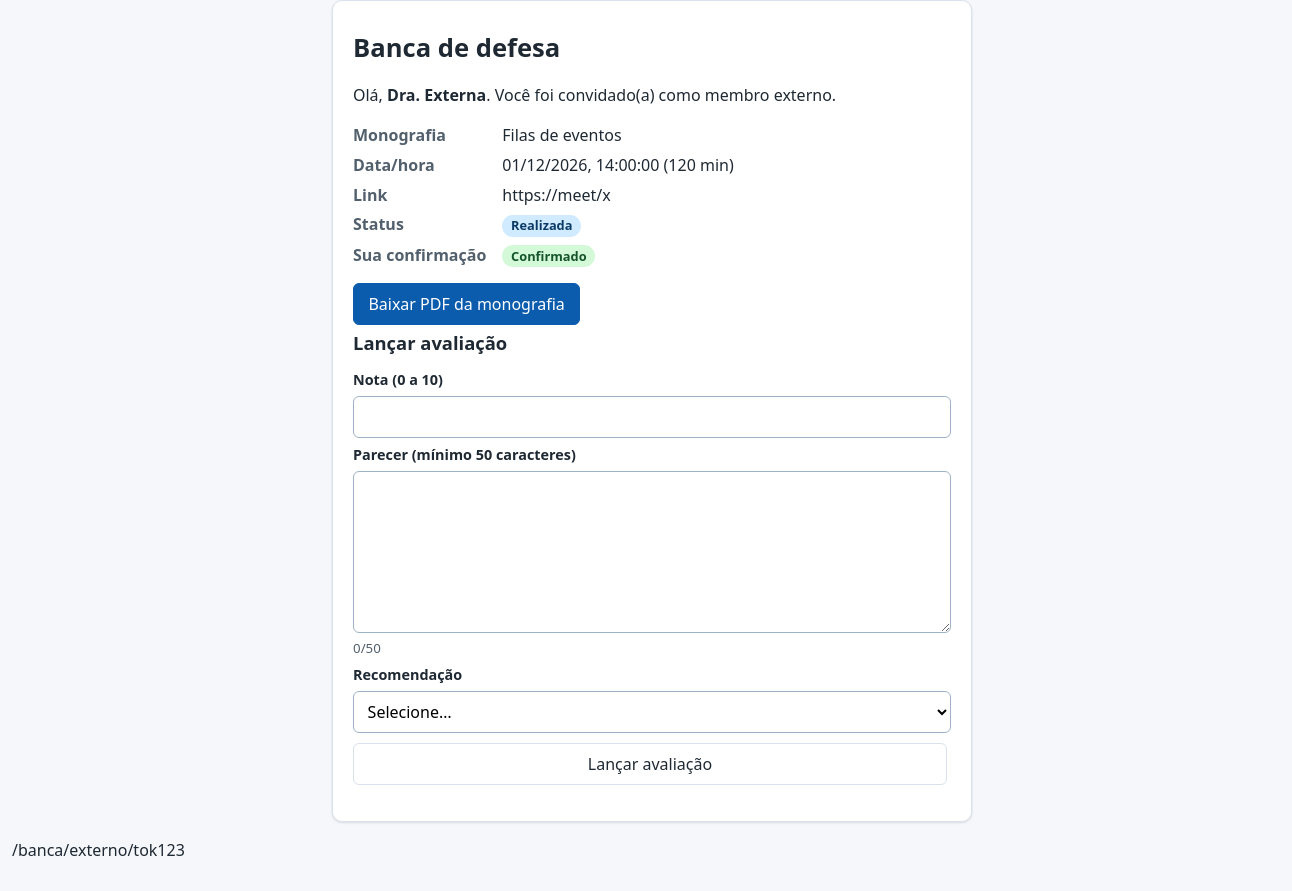
Test: Membro externo (acesso por token) › banca realizada: externo confirmado avalia
The width and height of the screenshot is (1292, 891).
Type "7,5" into the field labelled "Nota (0 a 10)" at (652,417), box x1=353 y1=396 x2=951 y2=438
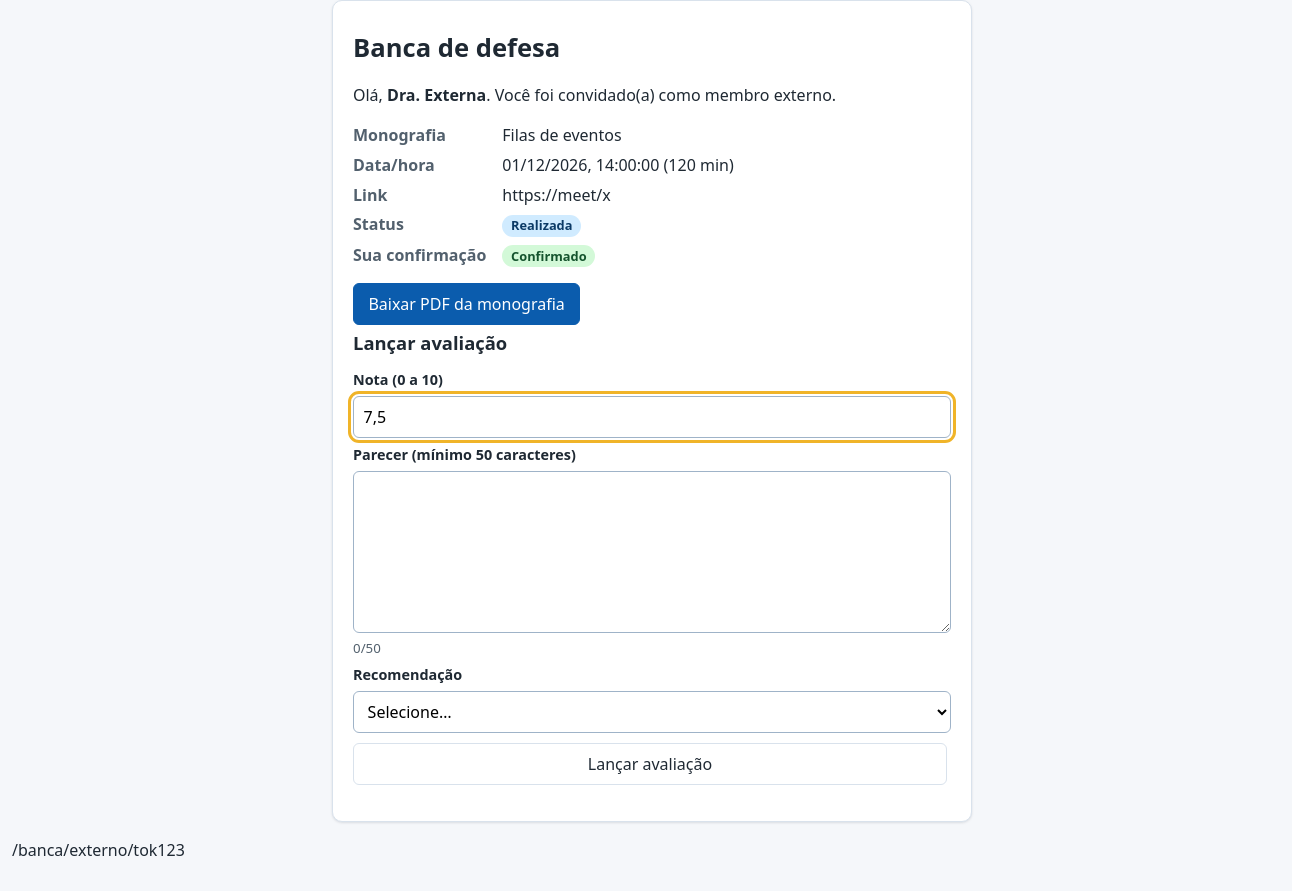
Type "Trabalho consistente, metodologia adequada e resultados bem discutidos ao longo do texto." into the text box labelled "Parecer (mínimo 50 caracteres)" at (652,552), box x1=353 y1=471 x2=951 y2=633
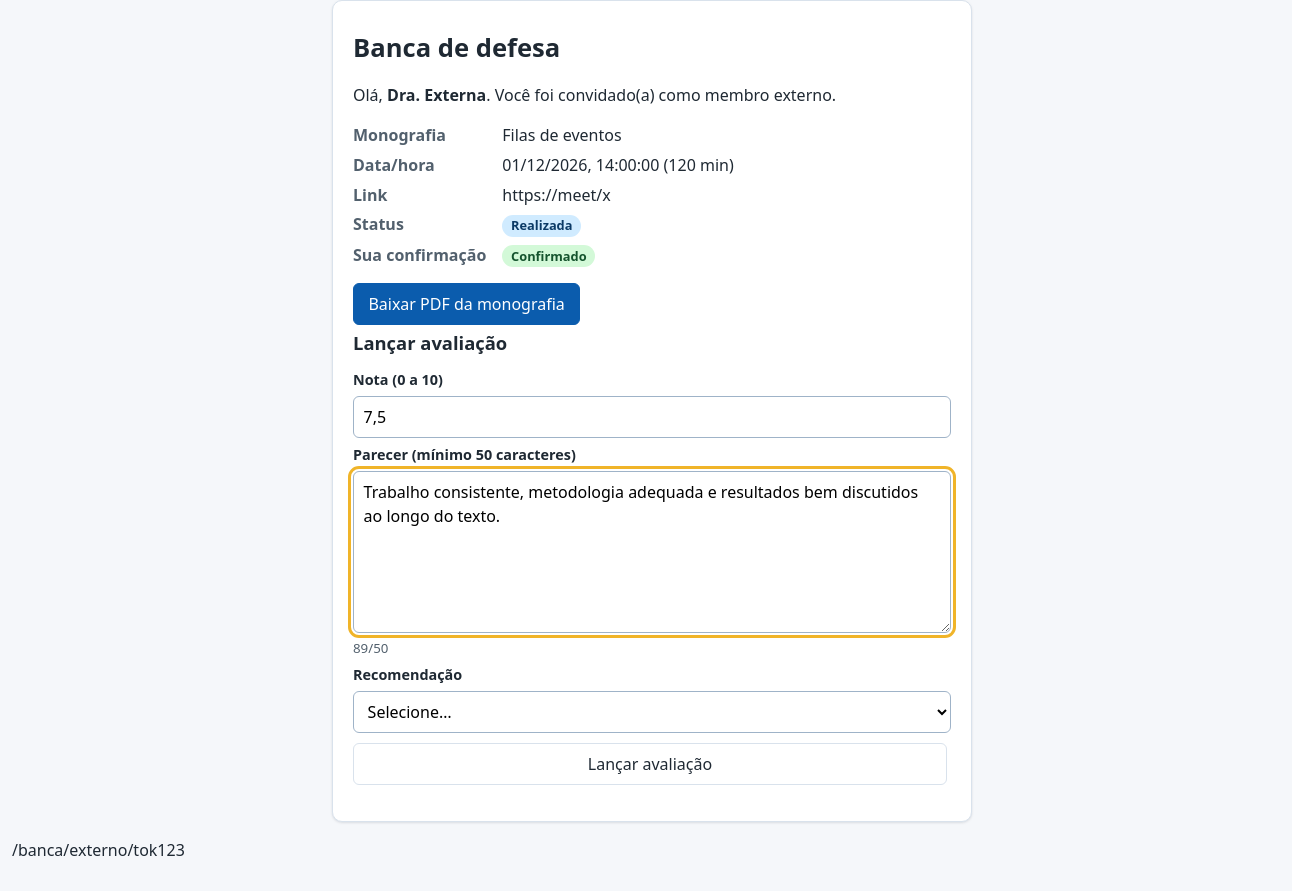
Select "Aprovado com ressalvas" in the dropdown labelled "Recomendação" at (652,712), box x1=353 y1=691 x2=951 y2=733
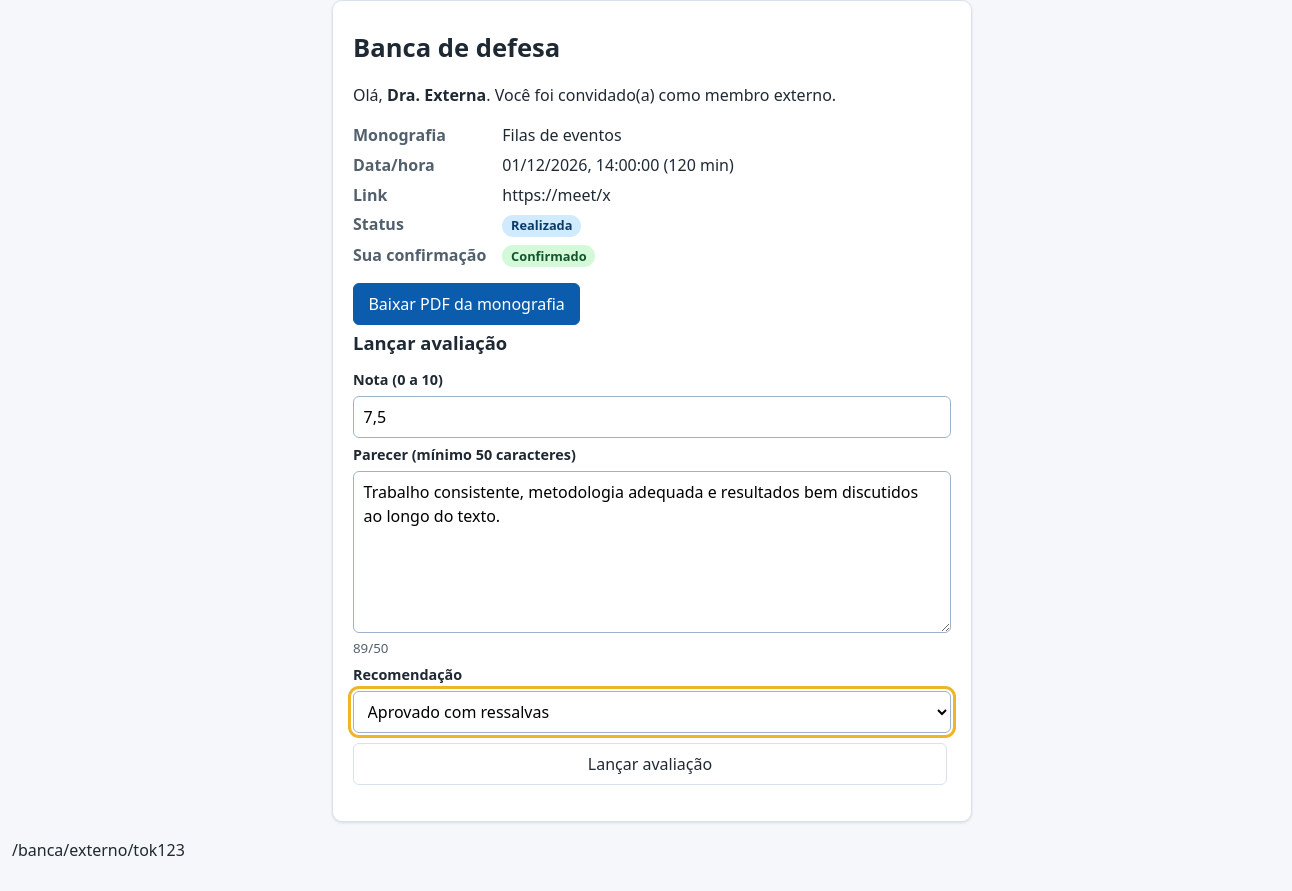
Click the button "Lançar avaliação" at (650,764), box x1=353 y1=743 x2=947 y2=785
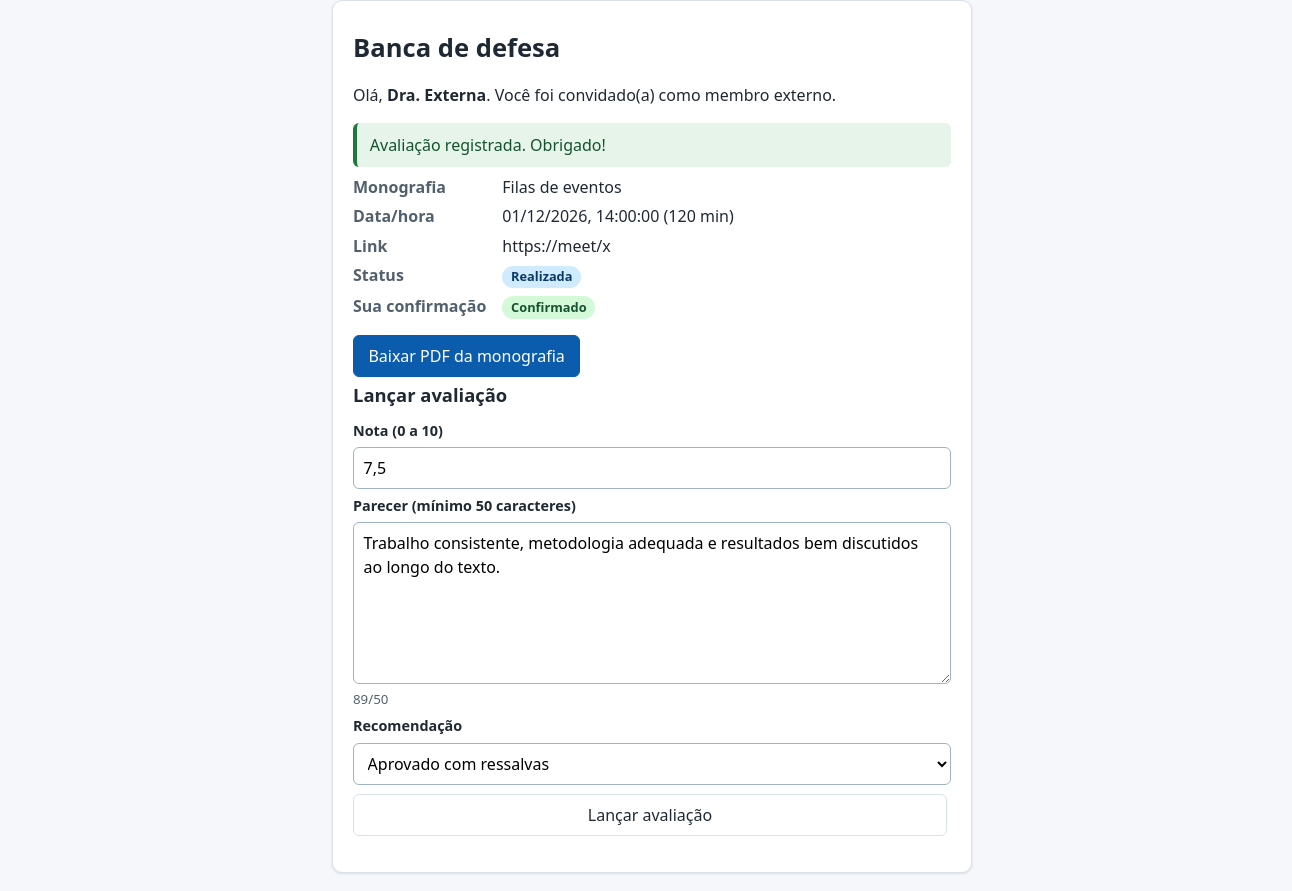
Expected: the text "Avaliação registrada. Obrigado!" is shown, x1=353 y1=123 x2=951 y2=167
